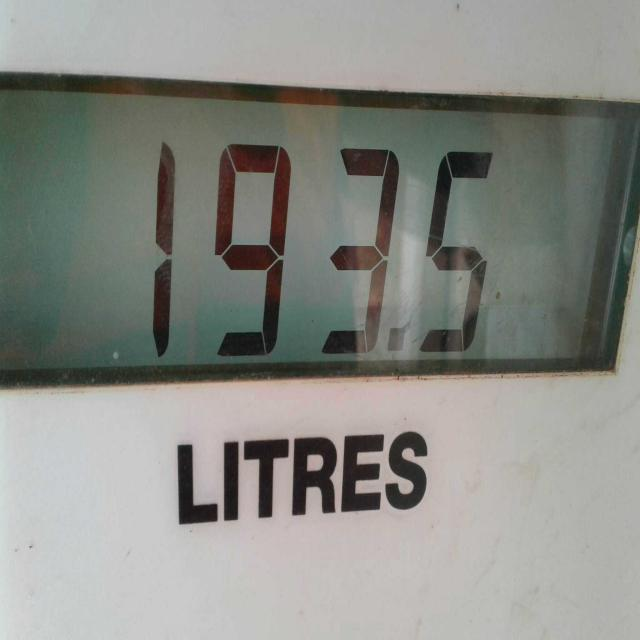.: (387, 320, 416, 378)
1: (144, 129, 196, 371)
3: (319, 131, 394, 351)
5: (410, 143, 514, 349)
9: (205, 125, 284, 361)
